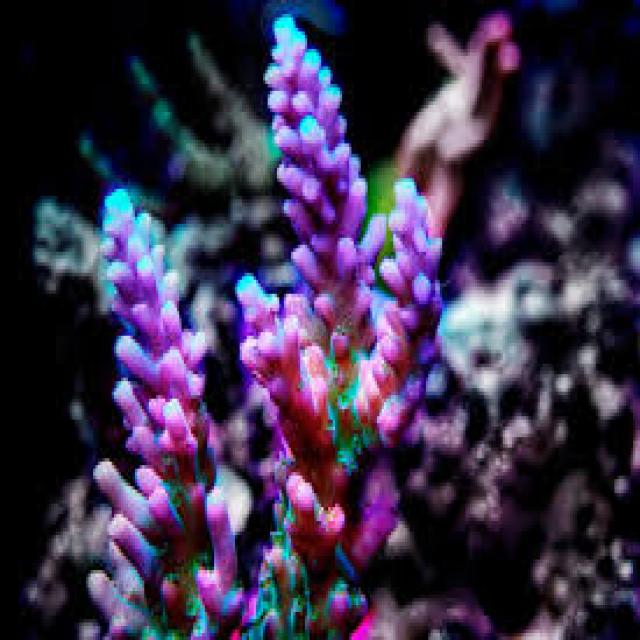Coral: (86, 10, 445, 640)
